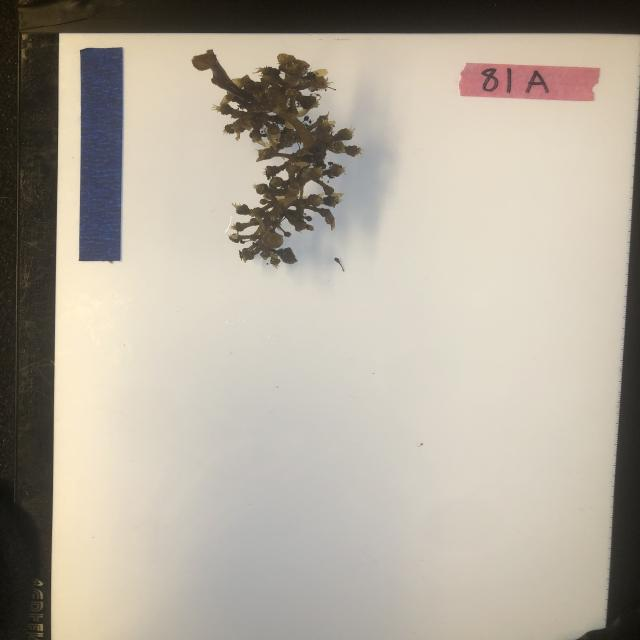index: (457, 60, 601, 103)
measure_label: (77, 46, 123, 266)
rachis_cluster: (188, 46, 365, 274)
